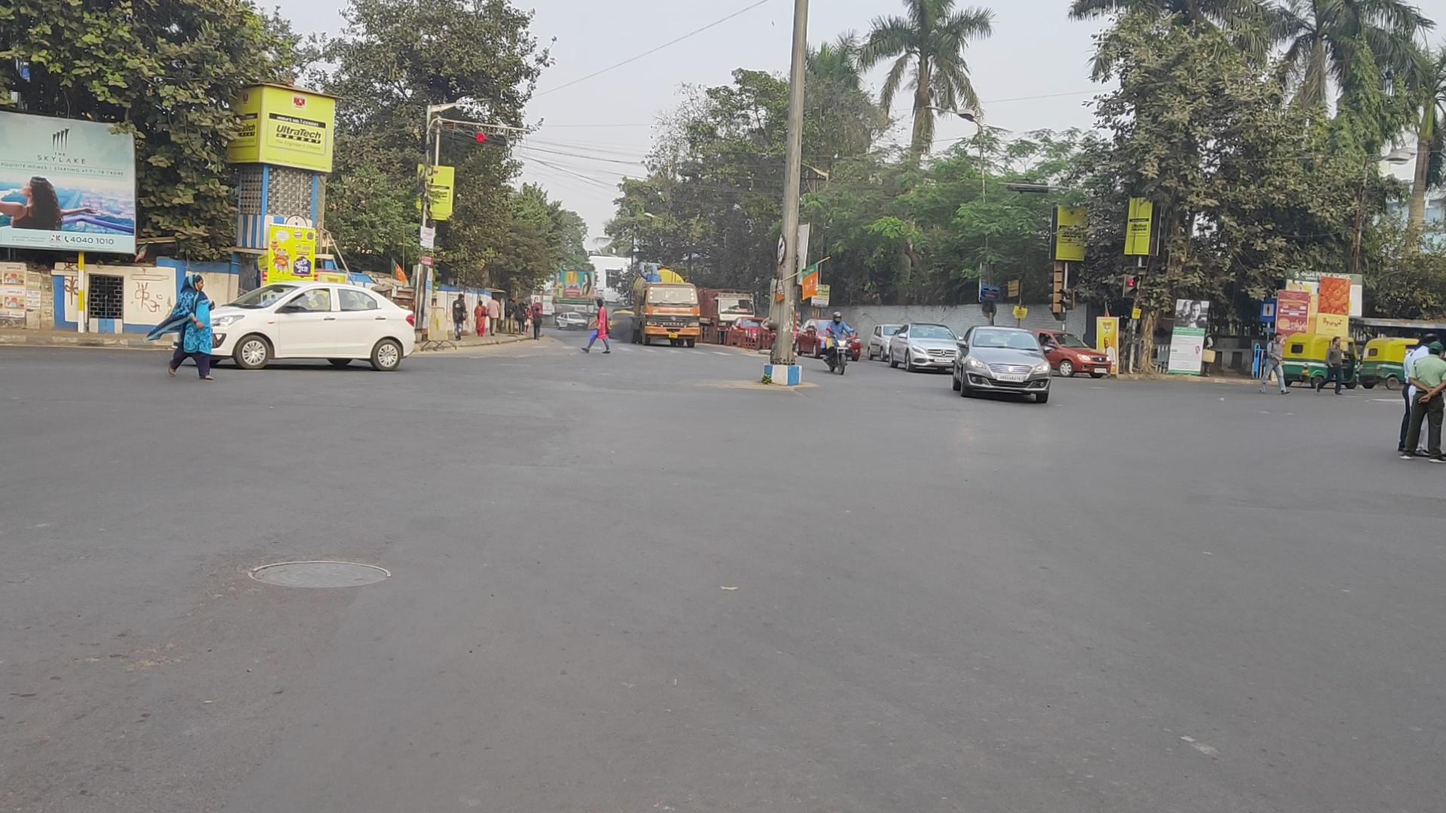Auto: (1283, 332, 1359, 390), (1360, 336, 1437, 390)
bike: (825, 312, 856, 376)
car: (199, 281, 416, 373), (953, 324, 1051, 404), (1035, 328, 1112, 378), (889, 321, 961, 373), (797, 318, 862, 362), (868, 324, 907, 361), (556, 312, 588, 332)
truck: (631, 263, 700, 349), (699, 288, 755, 343)
